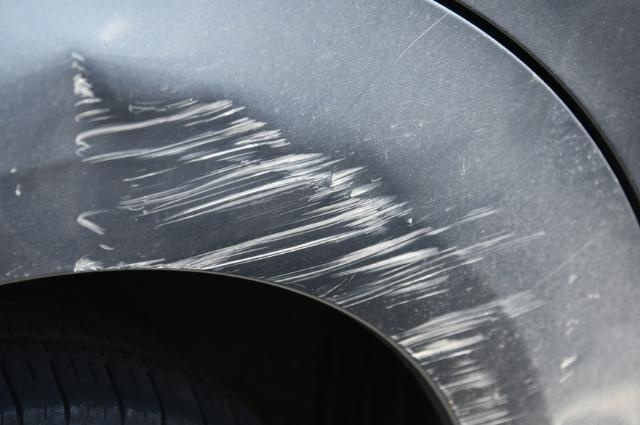Fender: (48, 42, 592, 425)
